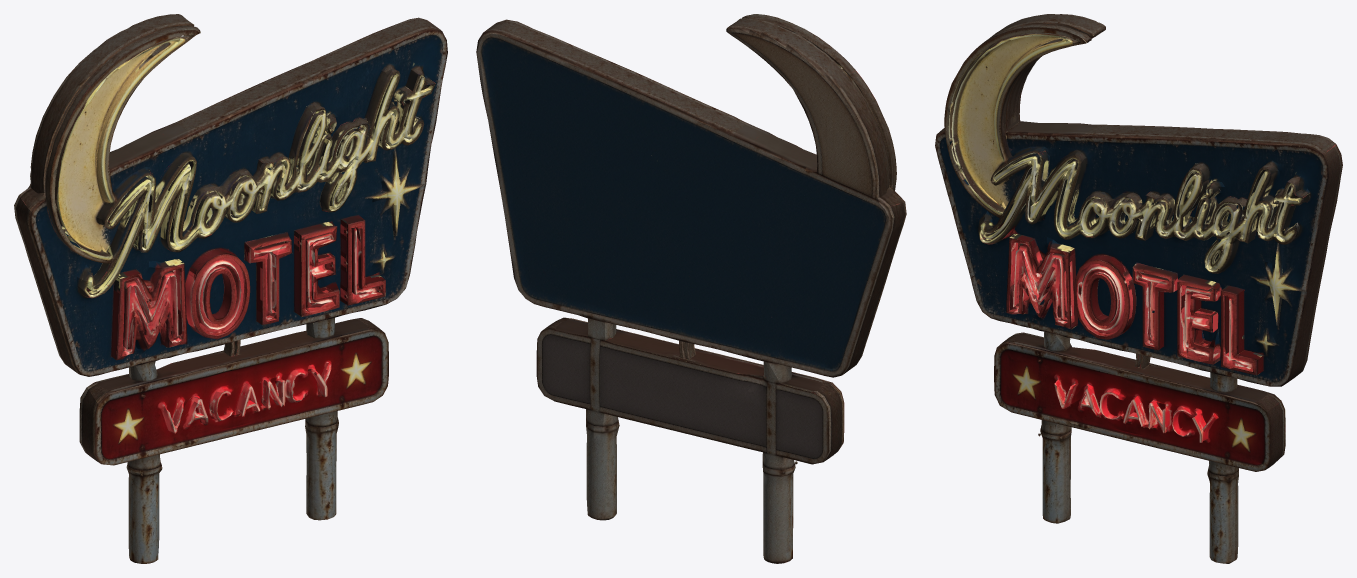
Rendered from Meshy_AI_Moonlight_Motel_Vacan_0906080807_texture.fbx.
The picture shows the model from 3 angles, left to right: view 1: azimuth 30°, elevation 25°; view 2: azimuth 150°, elevation 25°; view 3: azimuth 330°, elevation 25°; orthographic projection. The views are drawn at different scales.
Parts seen in each view (by area): view 1: Mesh0; view 2: Mesh0; view 3: Mesh0.
Boxes of the visible parts, <box> form: Mesh0: <box>14,14,447,563</box>; Mesh0: <box>476,14,906,563</box>; Mesh0: <box>935,14,1342,563</box>.
Size of the model in its own units: 157 by 190 by 16.7.
Materials: 1 (1 with a texture image).
